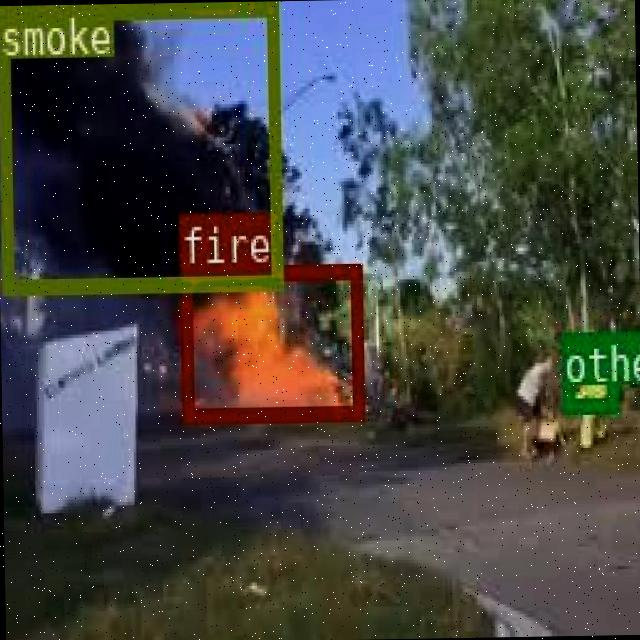fire: (177, 263, 362, 419)
smoke: (0, 0, 281, 289)
